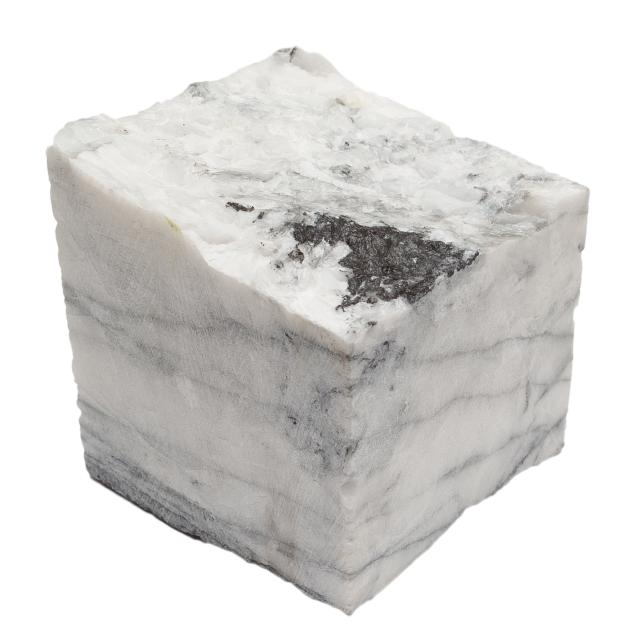Sedimentary: (36, 26, 582, 624)
